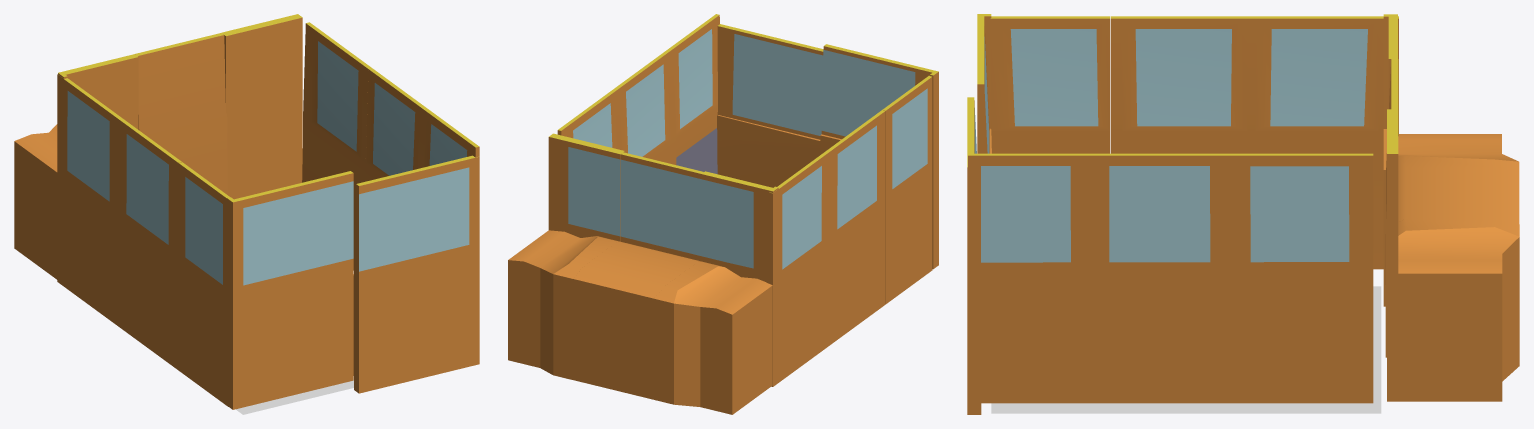
File: bus.fbx
3 views of the same model, side by side, from view 1: azimuth 30°, elevation 25°; view 2: azimuth 150°, elevation 25°; view 3: azimuth 270°, elevation 25° (orthographic). The views are drawn at different scales.
Visible parts, largest first — view 1: Cube.055, Cube.050, Cube.058, Cube.051, Cube.057, Cube.012, Cube.056, Cube.052, Cube.061, Cube.053, Cube.054, Plane; view 2: Cube.061, Cube.012, Cube.051, Cube.050, Cube.058, Cube.057, Cube.056, Cube.055, Cube.054, Cube.053, Cube.052; view 3: Cube.052, Cube.053, Cube.054, Cube.051, Cube.058, Cube.057, Cube.056, Cube.012, Cube.061, Plane, Cube.055, Cube.050.
Part boxes in pixels (x1=…): Cube.055: x1=227, y1=171, x2=353, y2=409; Cube.050: x1=353, y1=155, x2=479, y2=393; Cube.058: x1=57, y1=74, x2=124, y2=327; Cube.051: x1=221, y1=14, x2=302, y2=199; Cube.057: x1=121, y1=120, x2=181, y2=369; Cube.012: x1=135, y1=33, x2=227, y2=194; Cube.056: x1=178, y1=162, x2=230, y2=406; Cube.052: x1=302, y1=22, x2=371, y2=270; Cube.061: x1=14, y1=54, x2=138, y2=279; Cube.053: x1=365, y1=68, x2=429, y2=181; Cube.054: x1=424, y1=110, x2=479, y2=167; Plane: x1=236, y1=376, x2=353, y2=414; Cube.061: x1=654, y1=171, x2=778, y2=414; Cube.012: x1=573, y1=152, x2=703, y2=399; Cube.051: x1=508, y1=133, x2=624, y2=379; Cube.050: x1=717, y1=24, x2=823, y2=187; Cube.058: x1=766, y1=149, x2=832, y2=386; Cube.057: x1=829, y1=110, x2=885, y2=343; Cube.056: x1=882, y1=75, x2=932, y2=303; Cube.055: x1=820, y1=44, x2=938, y2=269; Cube.054: x1=670, y1=14, x2=719, y2=174; Cube.053: x1=616, y1=48, x2=676, y2=164; Cube.052: x1=557, y1=87, x2=621, y2=149; Cube.052: x1=1223, y1=153, x2=1373, y2=403; Cube.053: x1=1085, y1=153, x2=1223, y2=403; Cube.054: x1=968, y1=153, x2=1086, y2=403; Cube.051: x1=1387, y1=109, x2=1519, y2=401; Cube.058: x1=1247, y1=16, x2=1398, y2=269; Cube.057: x1=1110, y1=16, x2=1247, y2=153; Cube.056: x1=990, y1=16, x2=1109, y2=153; Cube.012: x1=1385, y1=59, x2=1519, y2=357; Cube.061: x1=1383, y1=14, x2=1519, y2=306; Plane: x1=991, y1=286, x2=1381, y2=413; Cube.055: x1=977, y1=14, x2=991, y2=153; Cube.050: x1=967, y1=97, x2=981, y2=414.
Size of the model in its own units: 191 by 166 by 315.
